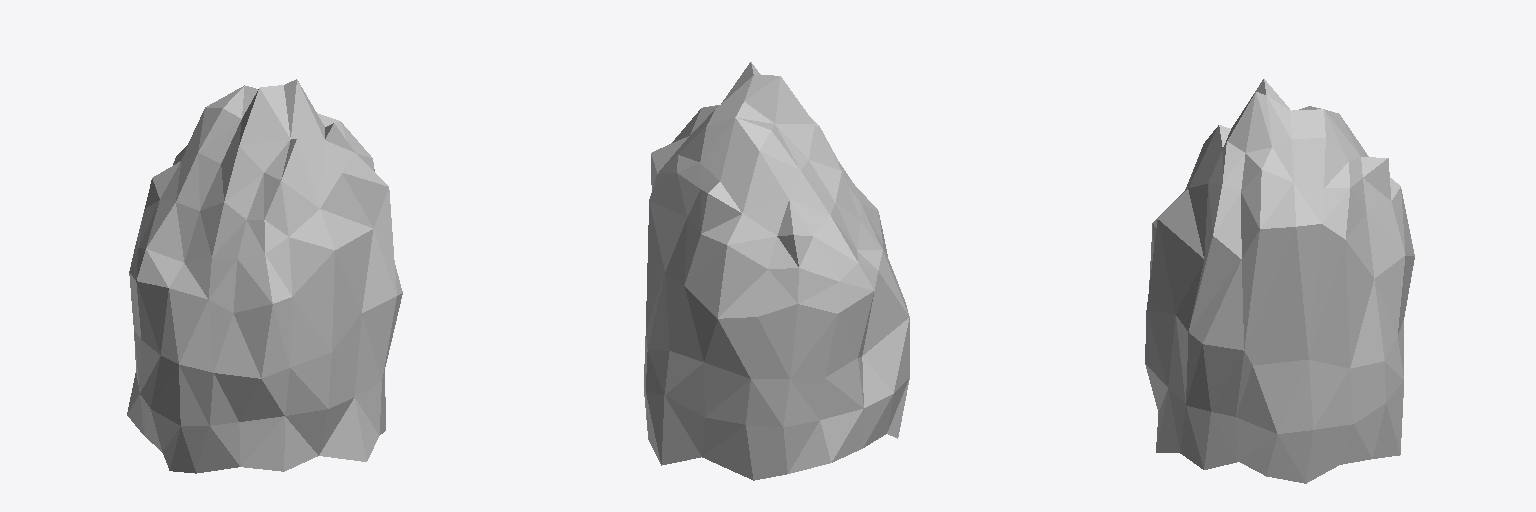
The model's file is wall4.obj.
3 views of the same model, side by side, from view 1: azimuth 30°, elevation 25°; view 2: azimuth 150°, elevation 25°; view 3: azimuth 270°, elevation 25° (orthographic).
Visible parts, largest first — view 1: Cube.004_Cube.005; view 2: Cube.004_Cube.005; view 3: Cube.004_Cube.005.
Part boxes in pixels (left/top/right/bottom): Cube.004_Cube.005: left=127, top=79, right=402, bottom=473; Cube.004_Cube.005: left=644, top=62, right=909, bottom=480; Cube.004_Cube.005: left=1145, top=79, right=1414, bottom=483.
Size of the model in its own units: 10.72 by 15.83 by 10.85.